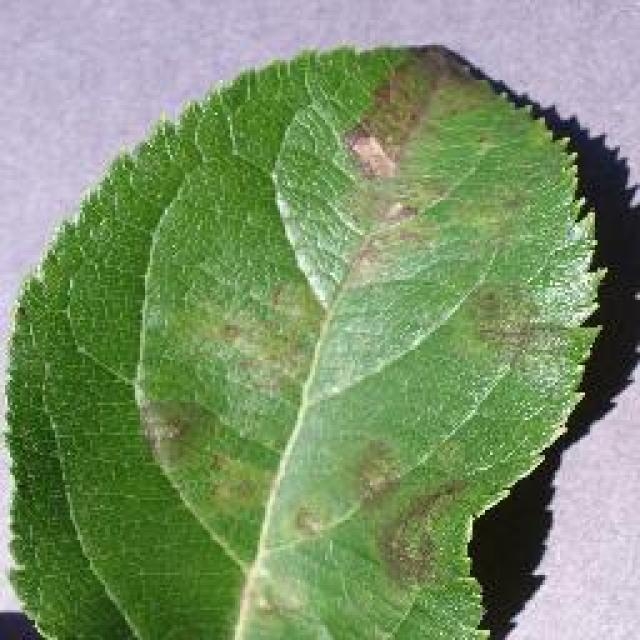apple scab disease: (0, 40, 608, 638)
